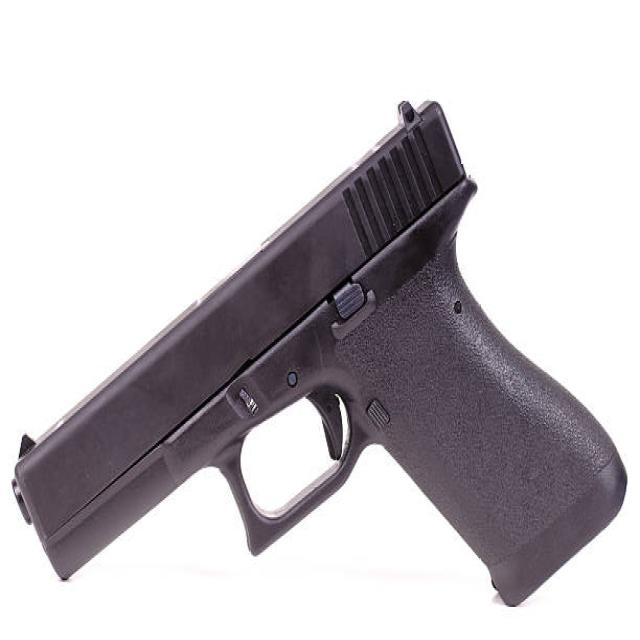pistol: (2, 85, 635, 615)
